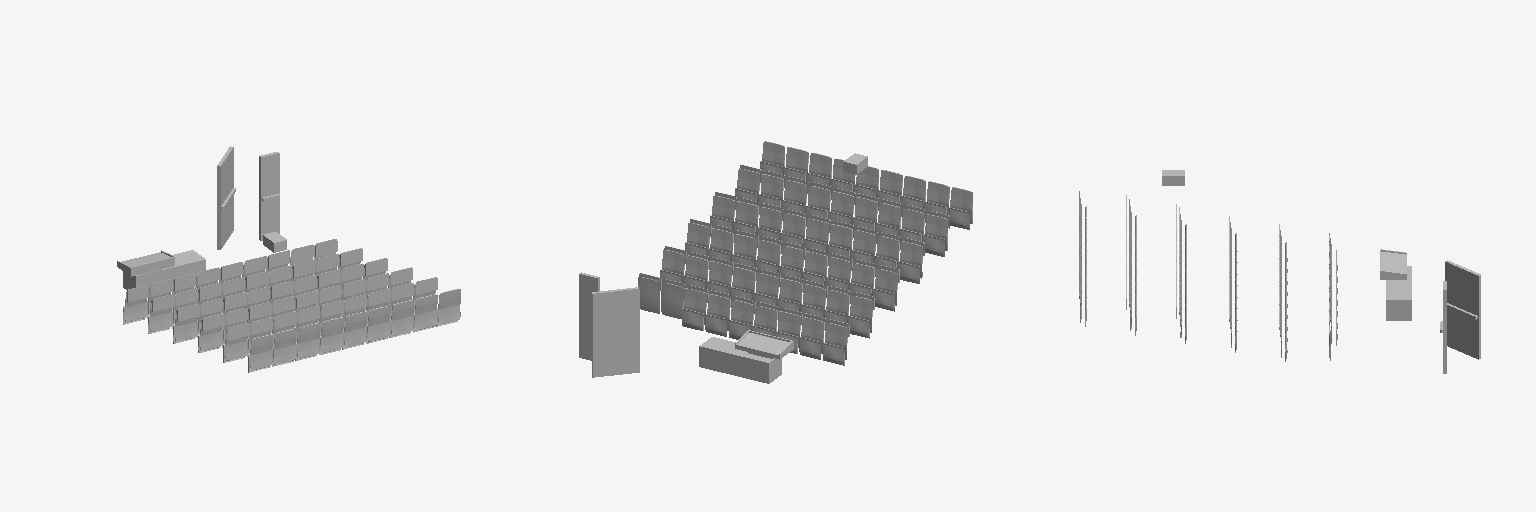
The model's file is holzObjekte.obj.
3 views of the same model, side by side, from view 1: azimuth 30°, elevation 25°; view 2: azimuth 150°, elevation 25°; view 3: azimuth 270°, elevation 25° (orthographic).
Visible parts, largest first — view 1: Pult, Tuer2, Tuer, Lehne.048, Lehne.050, Lehne.052, Lehne.046, Lehne.051, Lehne.047, Lehne.049, Lehne.053, Lehne.045; view 2: Tuer, Pult, Tuer2, Lehne.007, Lehne.008; view 3: Tuer, Pult.
Boxes of the visible parts, x1=… form: Pult: x1=117, y1=250, x2=205, y2=289; Tuer2: x1=259, y1=152, x2=279, y2=240; Tuer: x1=217, y1=146, x2=235, y2=249; Lehne.048: x1=320, y1=317, x2=343, y2=352; Lehne.050: x1=367, y1=306, x2=390, y2=341; Lehne.052: x1=414, y1=294, x2=437, y2=329; Lehne.046: x1=273, y1=329, x2=296, y2=364; Lehne.051: x1=391, y1=300, x2=413, y2=335; Lehne.047: x1=297, y1=323, x2=319, y2=358; Lehne.049: x1=344, y1=311, x2=366, y2=346; Lehne.053: x1=438, y1=289, x2=460, y2=323; Lehne.045: x1=250, y1=334, x2=272, y2=369; Tuer: x1=592, y1=287, x2=639, y2=377; Pult: x1=699, y1=330, x2=793, y2=383; Tuer2: x1=579, y1=272, x2=599, y2=360; Lehne.007: x1=661, y1=283, x2=683, y2=318; Lehne.008: x1=638, y1=277, x2=659, y2=313; Tuer: x1=1445, y1=260, x2=1480, y2=359; Pult: x1=1380, y1=249, x2=1411, y2=320.
Size of the model in its own units: 12.62 by 7.58 by 20.91.